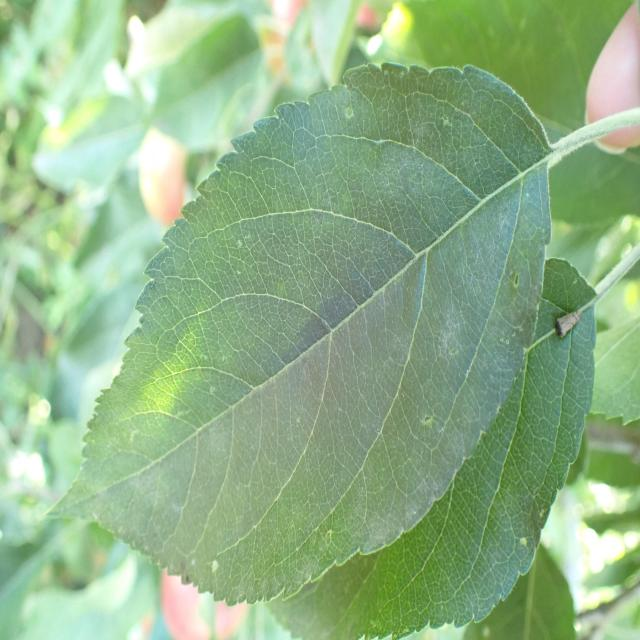Powdery_mildew: (105, 51, 546, 566)
